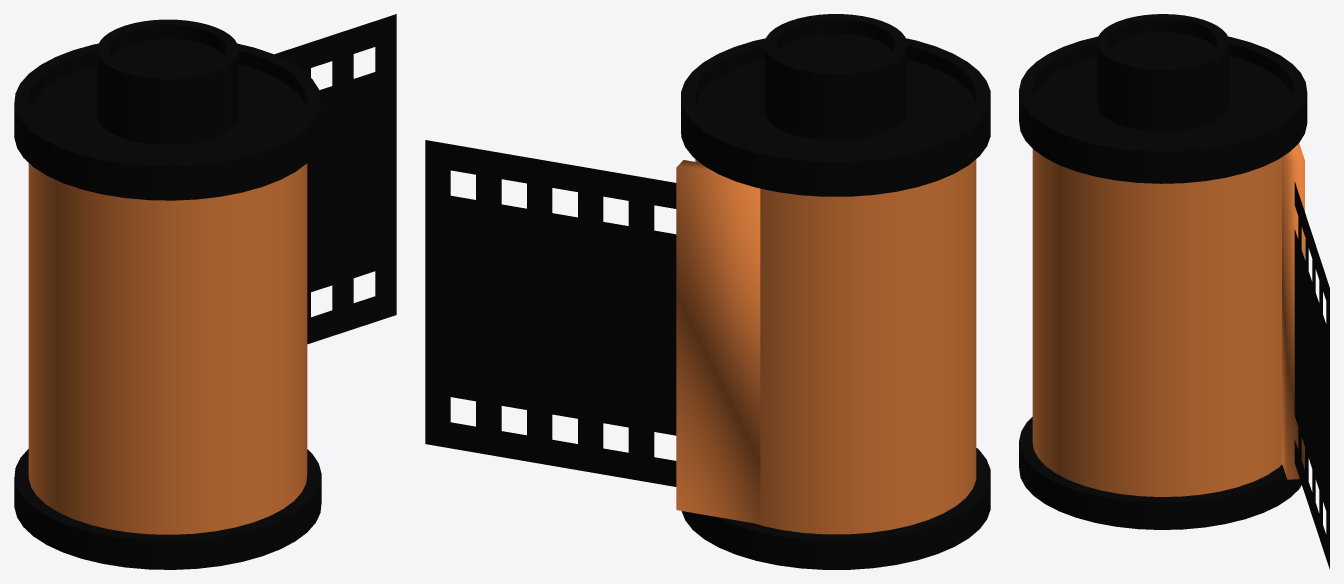
Rendered from movie1.glb.
The picture shows the model from 3 angles, left to right: view 1: azimuth 30°, elevation 25°; view 2: azimuth 150°, elevation 25°; view 3: azimuth 270°, elevation 25°; orthographic projection. The views are drawn at different scales.
Parts seen in each view (by area): view 1: Cylinder.023; view 2: Cylinder.023; view 3: Cylinder.023.
Boxes of the visible parts, x1=… form: Cylinder.023: x1=14, y1=14, x2=396, y2=569; Cylinder.023: x1=425, y1=14, x2=990, y2=569; Cylinder.023: x1=1019, y1=14, x2=1329, y2=569.
Size of the model in its own units: 0.3919 by 0.3787 by 0.2497.
